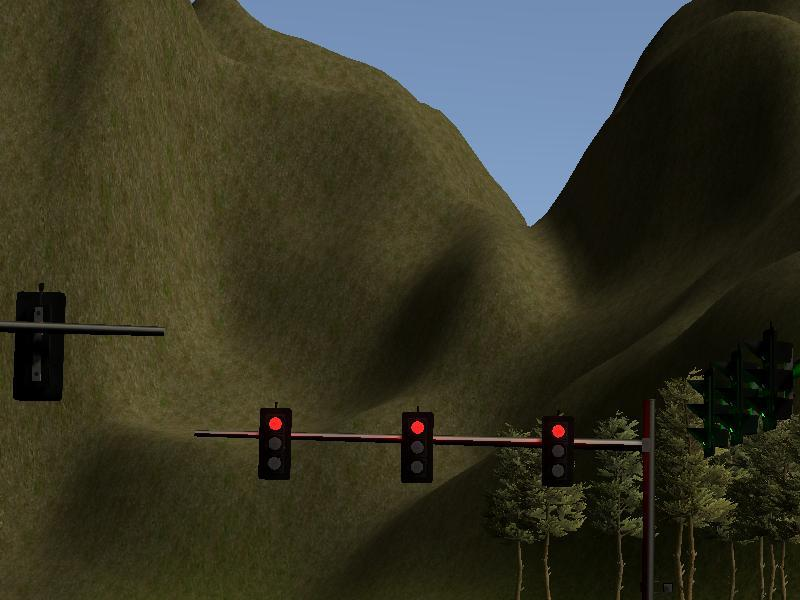Red: (259, 408, 292, 482), (402, 410, 433, 484), (541, 416, 573, 484)
